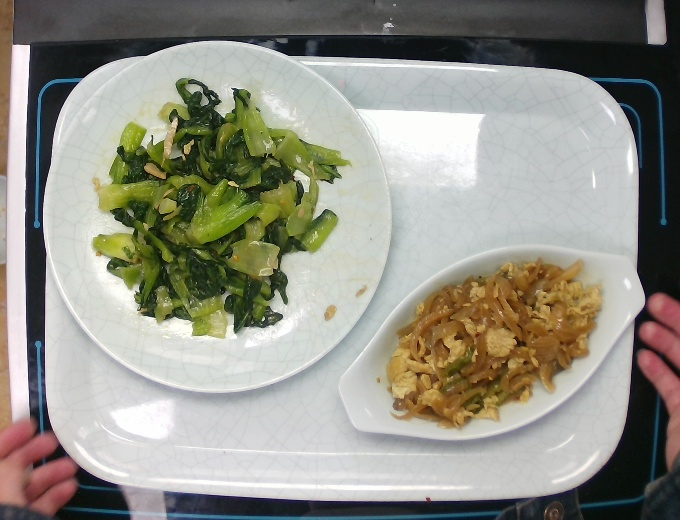JYsf-Da_Yuan_Pan: (35, 37, 396, 400)
JYsf-Yu_Pan: (335, 237, 648, 451)
